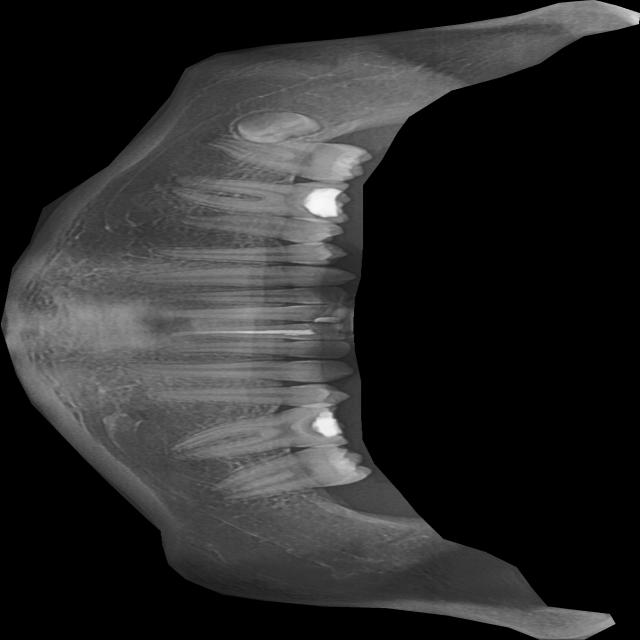mandibula: (0, 0, 640, 640)
